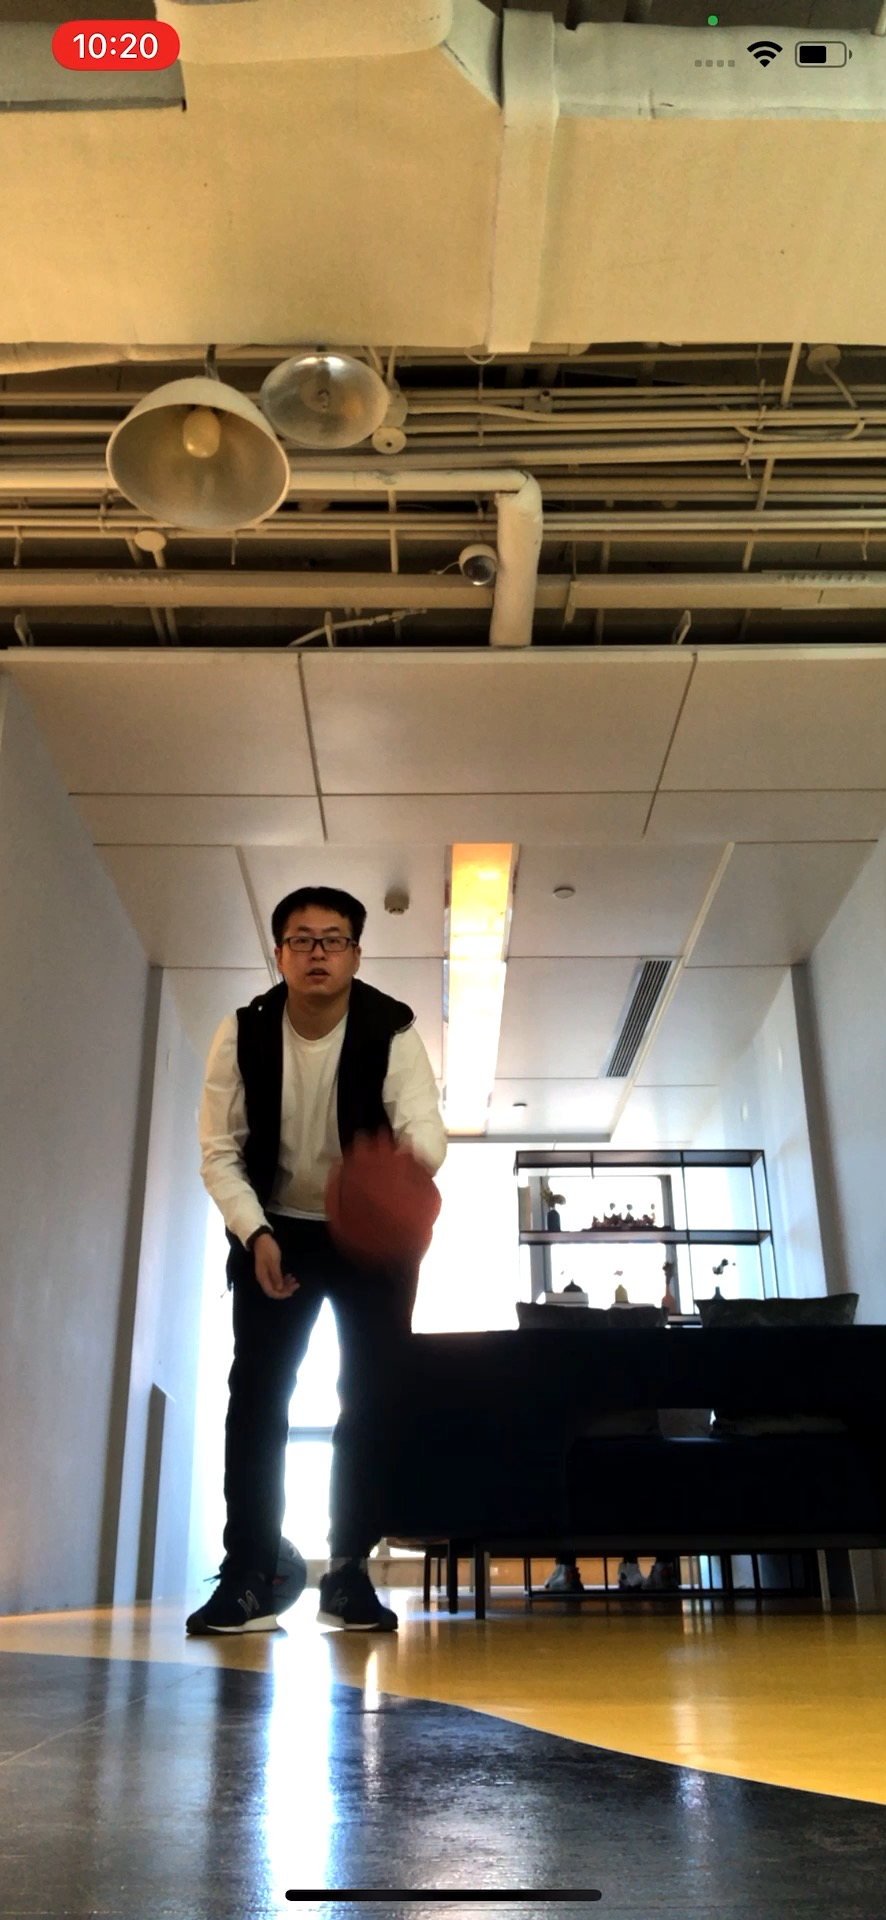ball: (326, 1142, 445, 1258)
